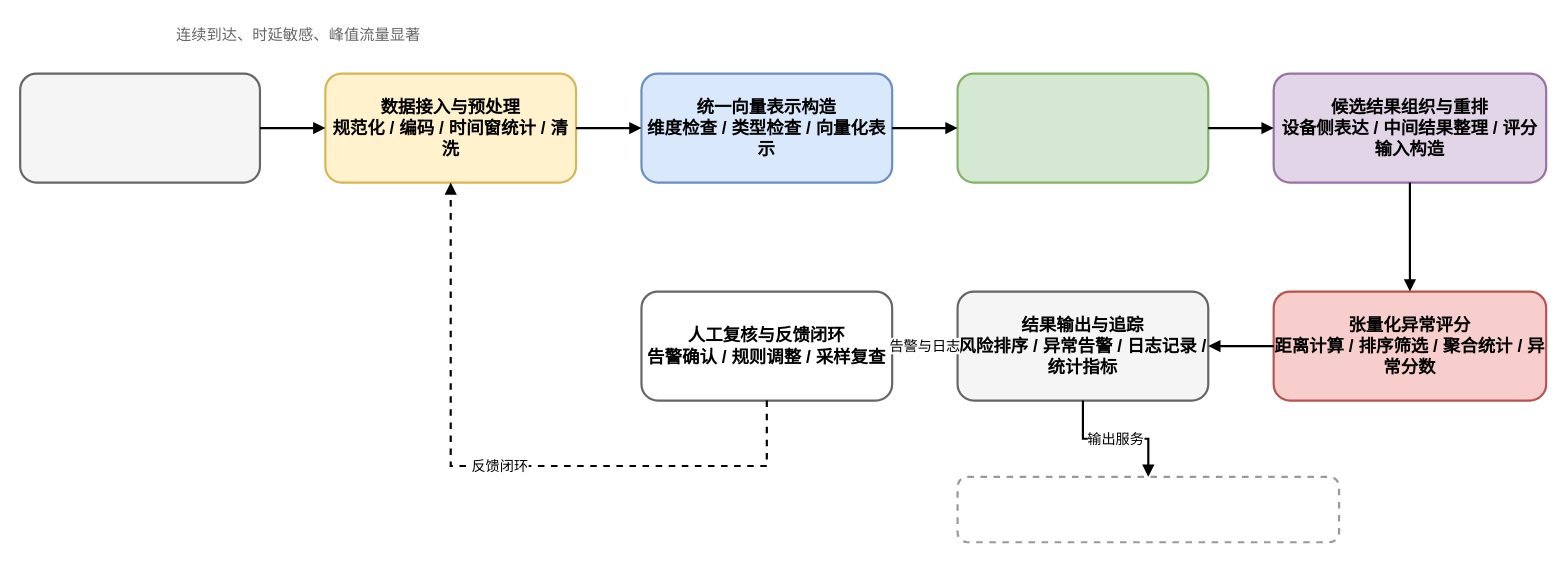
This 1565x561 diagram has some shape labels left out. Each missing label, with the box of its shape:
原始金融数据输入 交易记录 / 账户行为 / 上下文特征: (19, 72, 261, 183)
在线筛查 / 风险排序 / 审计追踪: (956, 475, 1340, 543)
高吞吐候选召回 ANN 检索 / 索引访问 / 候选集合返回: (956, 72, 1209, 183)
